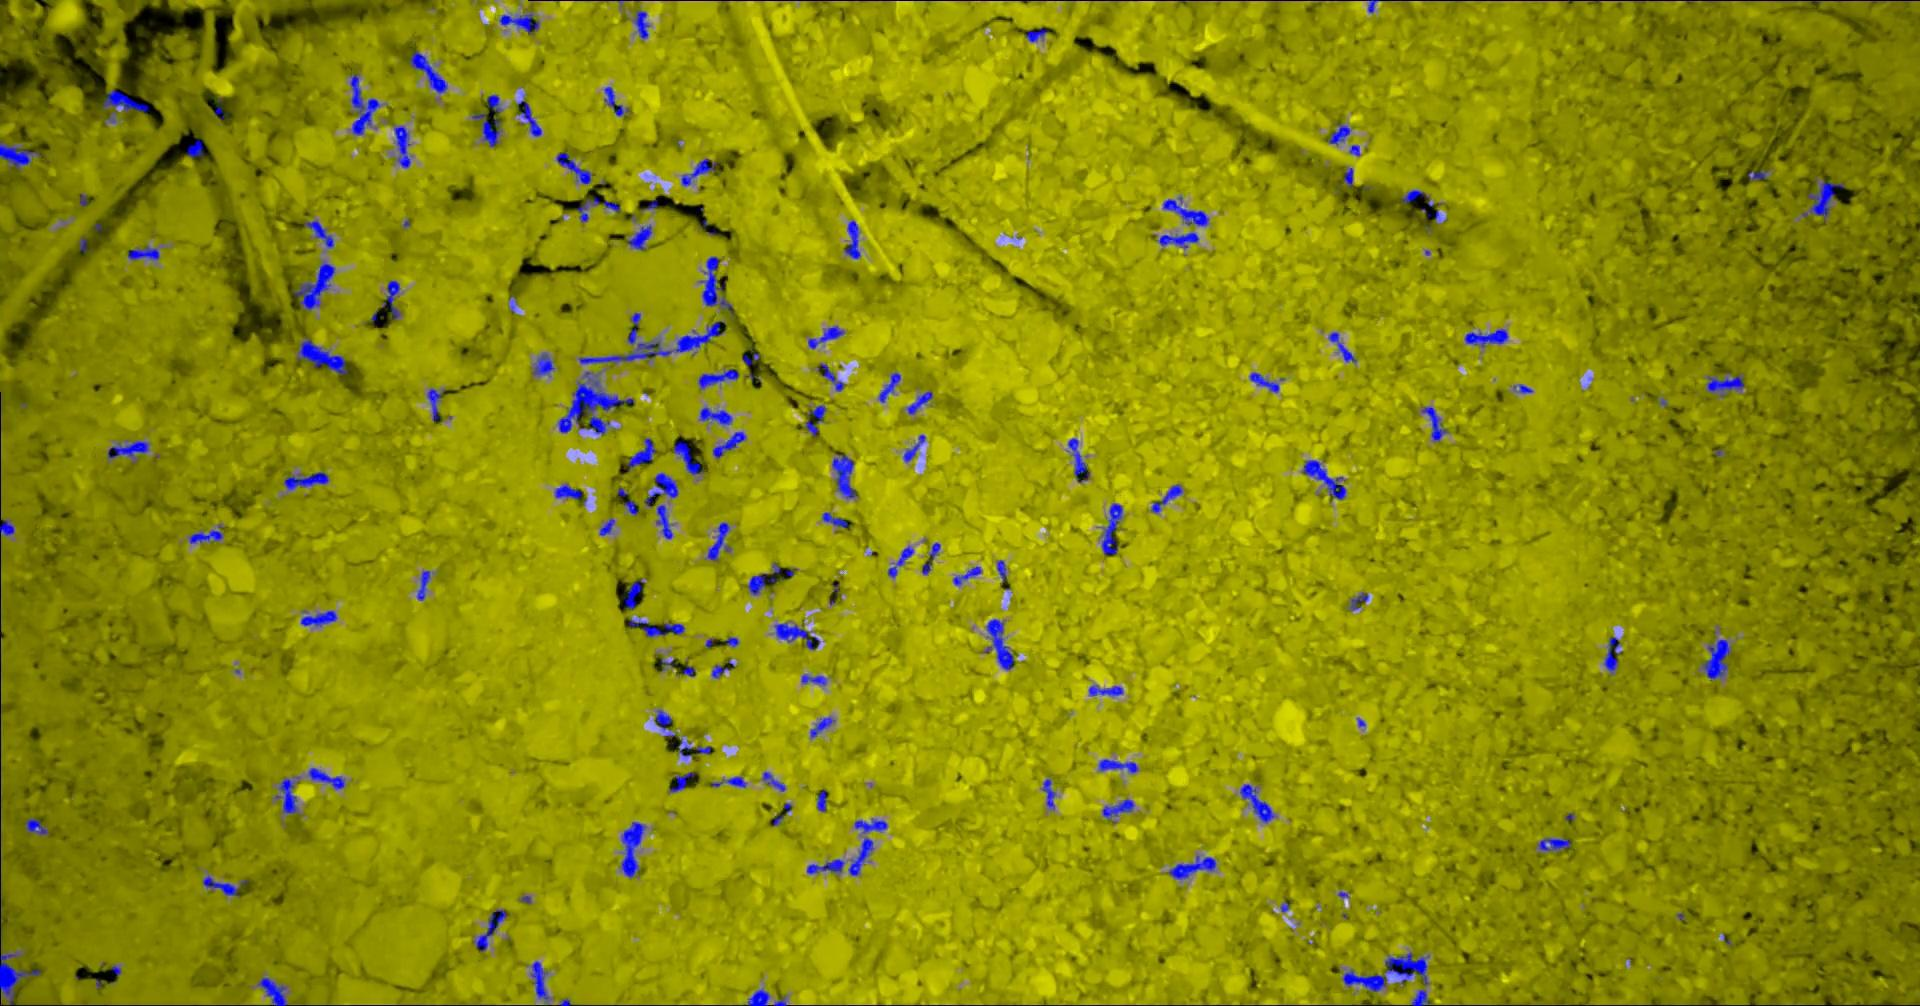ant: (0, 934, 39, 1005), (698, 257, 733, 318), (292, 262, 334, 310), (296, 337, 347, 373), (349, 72, 378, 135), (1801, 179, 1843, 221), (1302, 459, 1345, 499), (409, 50, 447, 93), (102, 89, 149, 123), (984, 619, 1013, 669), (620, 821, 645, 876), (1162, 196, 1208, 226), (472, 909, 505, 951), (1239, 782, 1274, 822), (775, 622, 819, 649), (629, 616, 684, 636), (1702, 639, 1730, 680), (1168, 855, 1215, 879), (830, 453, 856, 498), (1101, 502, 1123, 554), (0, 141, 39, 169), (747, 561, 780, 594), (645, 473, 677, 507), (577, 196, 618, 221), (556, 152, 590, 183), (673, 439, 703, 474), (1705, 371, 1743, 398), (1067, 438, 1090, 481), (517, 95, 541, 136), (471, 113, 500, 146), (681, 158, 715, 185), (107, 439, 149, 462), (627, 438, 657, 470), (706, 522, 730, 560), (848, 837, 872, 875), (1421, 406, 1448, 441), (1327, 332, 1356, 362), (1150, 484, 1182, 512), (712, 431, 745, 457), (257, 977, 287, 1005), (1464, 328, 1509, 347), (530, 960, 549, 1005), (808, 325, 844, 348), (274, 779, 298, 813), (303, 218, 333, 246), (1102, 798, 1134, 823), (499, 13, 538, 33), (380, 279, 400, 319), (307, 767, 344, 789), (283, 471, 328, 489), (888, 546, 913, 577), (202, 874, 237, 895), (698, 368, 738, 387), (392, 124, 410, 166), (817, 363, 843, 391), (603, 86, 629, 116), (877, 371, 900, 401), (1399, 189, 1441, 206), (554, 484, 585, 504), (1603, 636, 1620, 672), (843, 220, 860, 258), (698, 406, 731, 426), (1157, 232, 1197, 248), (623, 578, 644, 608), (627, 224, 651, 249), (905, 391, 932, 414), (188, 525, 222, 542), (300, 610, 337, 626), (1250, 372, 1279, 392), (805, 405, 825, 434), (677, 739, 710, 757), (903, 434, 924, 461), (655, 504, 672, 539), (952, 567, 982, 586), (809, 716, 834, 738), (427, 387, 443, 420), (1098, 760, 1137, 774), (806, 859, 844, 873), (669, 771, 693, 793), (1327, 123, 1350, 145), (532, 353, 554, 376), (127, 245, 159, 260), (632, 9, 649, 38), (762, 771, 785, 791), (855, 818, 888, 832), (1537, 837, 1570, 851), (822, 511, 848, 527), (743, 988, 770, 1005), (24, 817, 48, 835), (417, 570, 430, 600), (1088, 683, 1123, 695), (711, 776, 745, 788), (1043, 779, 1055, 809), (711, 659, 733, 677), (654, 709, 670, 730), (213, 97, 229, 119), (185, 138, 203, 158), (1349, 592, 1368, 610), (1025, 27, 1049, 41), (742, 349, 759, 365), (800, 674, 825, 685), (599, 518, 615, 535), (488, 94, 502, 112), (0, 517, 14, 535), (996, 559, 1006, 583), (1747, 169, 1766, 180), (623, 500, 637, 514), (1342, 166, 1352, 185), (817, 789, 825, 810), (930, 542, 940, 560), (1512, 384, 1531, 392)
